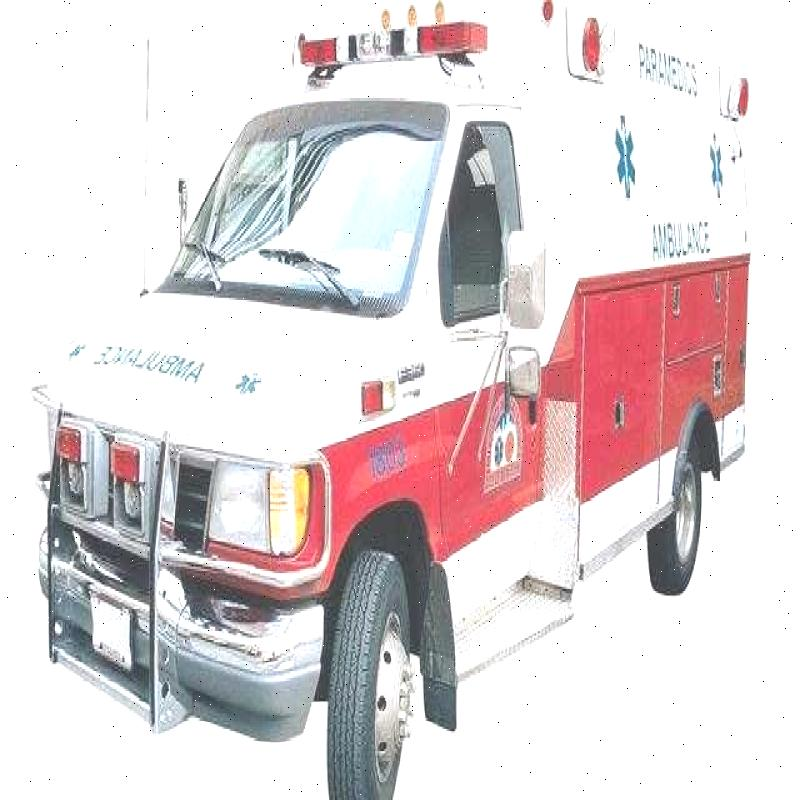AmbulanceSiren: (284, 11, 489, 76)
